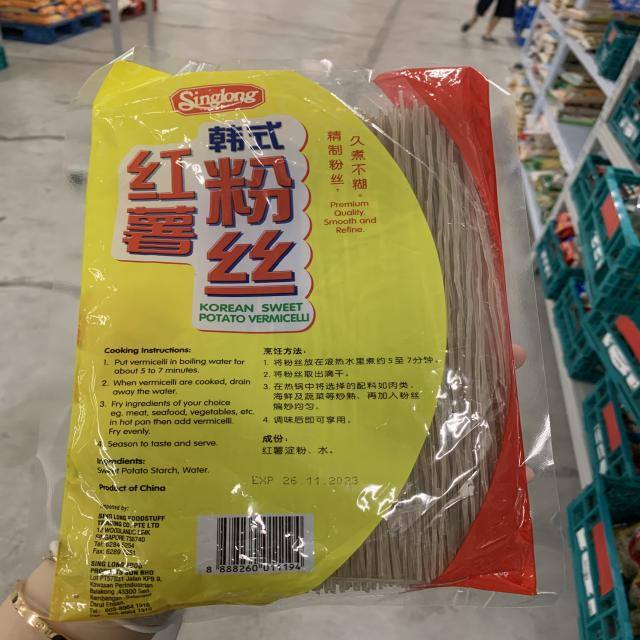object_name: (87, 70, 515, 596)
